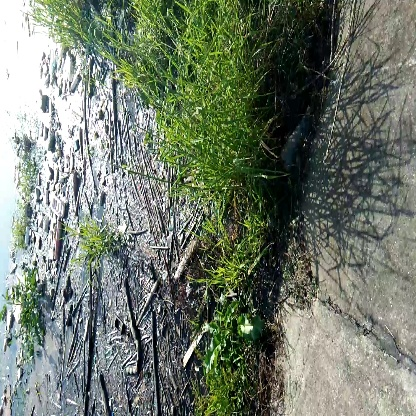branch: (113, 278, 151, 381)
